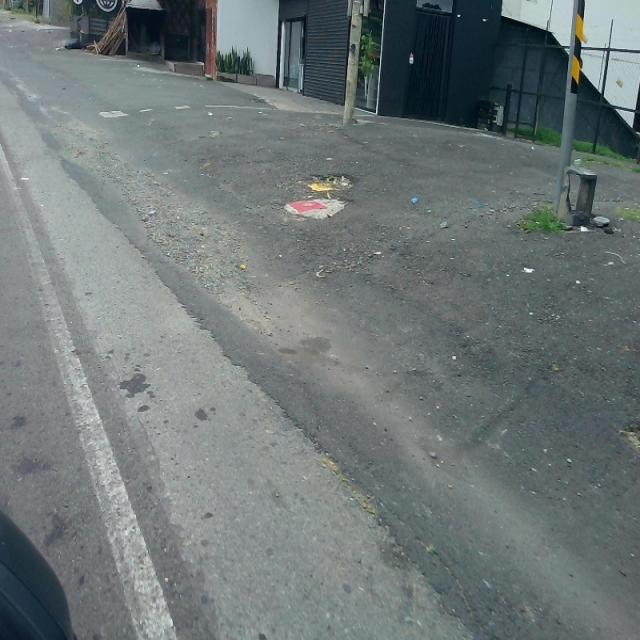DITCH: (1, 22, 638, 637), (41, 42, 638, 639)
